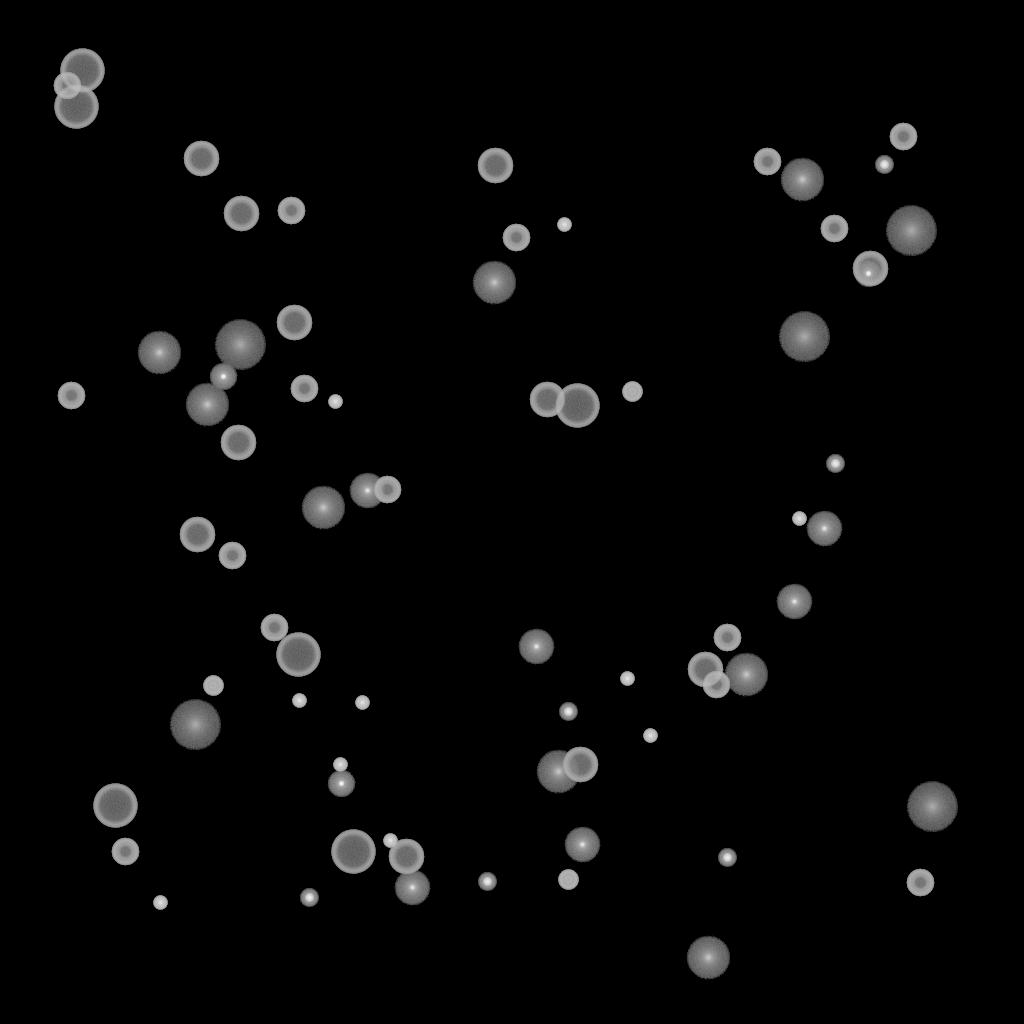depth:-10: (854, 260, 882, 288), (327, 770, 355, 798), (209, 363, 237, 391)
depth:-20: (300, 889, 318, 907), (875, 156, 893, 174), (478, 873, 496, 891), (826, 455, 844, 473), (718, 849, 736, 867), (559, 703, 577, 721)
depth:-30: (292, 694, 306, 708), (792, 512, 806, 526), (383, 834, 397, 848), (355, 696, 369, 710), (643, 729, 657, 743), (328, 395, 342, 409), (333, 758, 347, 772), (557, 218, 571, 232), (620, 672, 634, 686), (153, 896, 167, 910)
depth:-40: (558, 870, 578, 890), (203, 676, 223, 696), (622, 382, 642, 402)
depth:-50: (906, 869, 934, 897), (889, 123, 917, 151), (111, 838, 139, 866), (702, 671, 730, 699), (373, 476, 401, 504), (53, 72, 81, 100), (57, 382, 85, 410), (502, 224, 530, 252), (820, 215, 848, 243), (713, 624, 741, 652), (218, 542, 246, 570), (277, 197, 305, 225), (290, 375, 318, 403), (260, 614, 288, 642), (753, 148, 781, 176)
depth:-60: (477, 148, 513, 184), (562, 747, 598, 783), (687, 652, 723, 688), (183, 141, 219, 177), (223, 196, 259, 232), (388, 839, 424, 875), (220, 425, 256, 461), (852, 251, 888, 287), (529, 382, 565, 418), (179, 517, 215, 553), (276, 305, 312, 341)
depth:-70: (276, 633, 320, 677), (60, 49, 104, 93), (54, 85, 98, 129), (93, 784, 137, 828), (555, 384, 599, 428), (331, 830, 375, 874)
depth:0: (806, 511, 842, 547), (776, 584, 812, 620), (349, 473, 385, 509), (564, 827, 600, 863), (394, 870, 430, 906), (518, 629, 554, 665)
depth:10: (301, 486, 345, 530), (472, 261, 516, 305), (536, 750, 580, 794), (137, 331, 181, 375), (185, 383, 229, 427), (686, 936, 730, 980), (724, 653, 768, 697), (780, 158, 824, 202)
depth:20: (885, 206, 937, 256), (778, 312, 830, 362), (169, 700, 221, 750), (214, 320, 266, 370), (906, 782, 958, 832)
